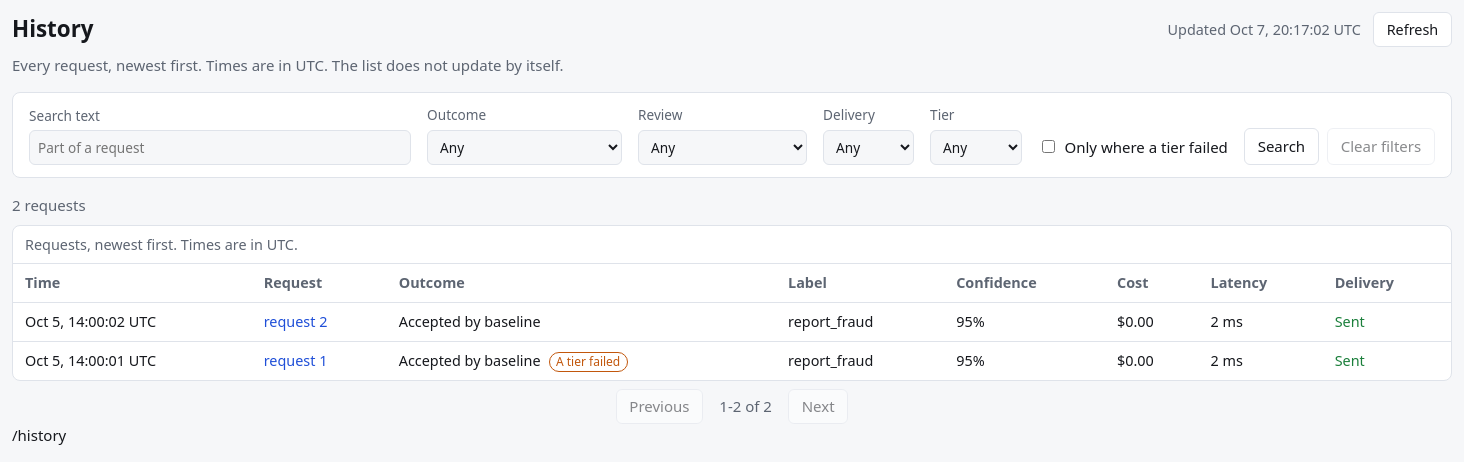
Test: filters › filters to requests where a tier failed
Expected: the text "2 requests" is shown, [12,195,86,215]
Step 1. Click the checkbox labelled "Only where a tier failed" → (1049, 147), box [1042,140,1055,153]
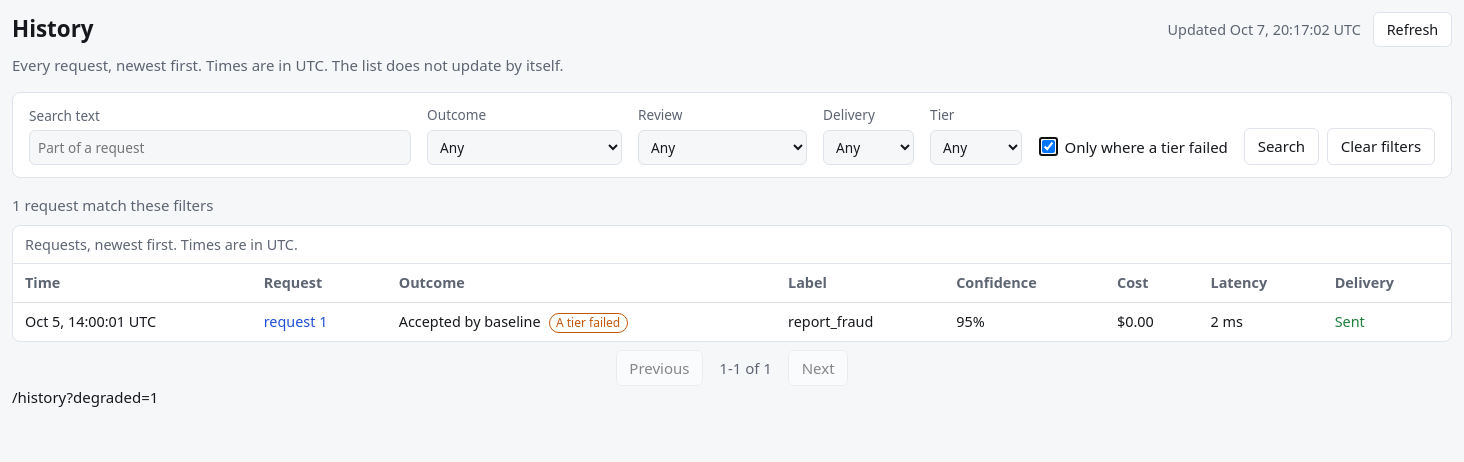
Expected: the text "1 request match these filters" is shown, [12,195,213,215]
Expected: the text named "Address" reads "/history?degraded=1", [12,387,158,407]
